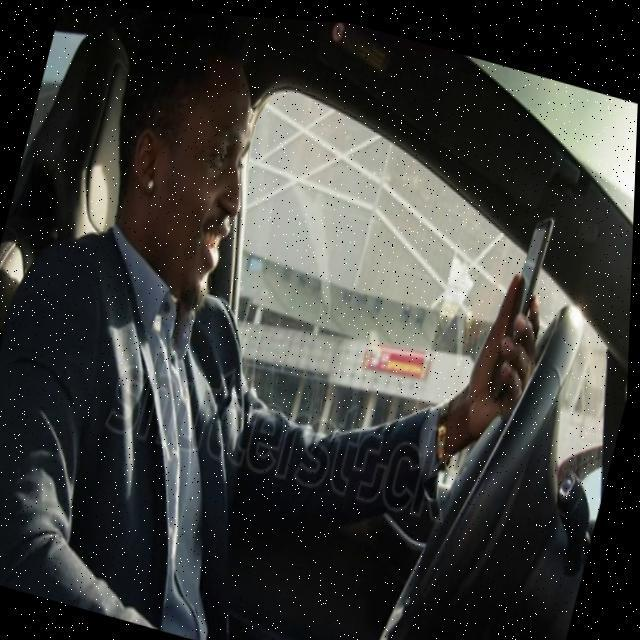PhoneCall: (485, 199, 558, 406)
